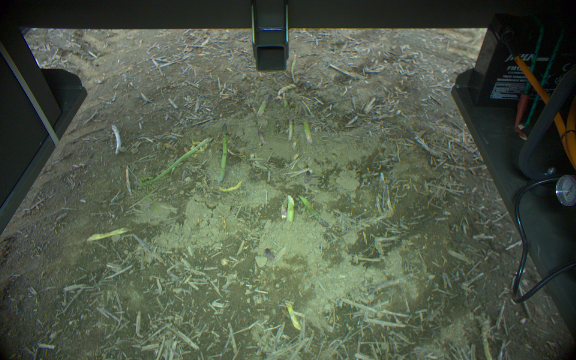aspa: (142, 137, 214, 189), (295, 192, 331, 228), (218, 122, 230, 184), (86, 225, 134, 240), (284, 301, 301, 332), (255, 93, 272, 118), (302, 115, 314, 148), (284, 193, 297, 223), (288, 116, 295, 142), (257, 127, 266, 146)
